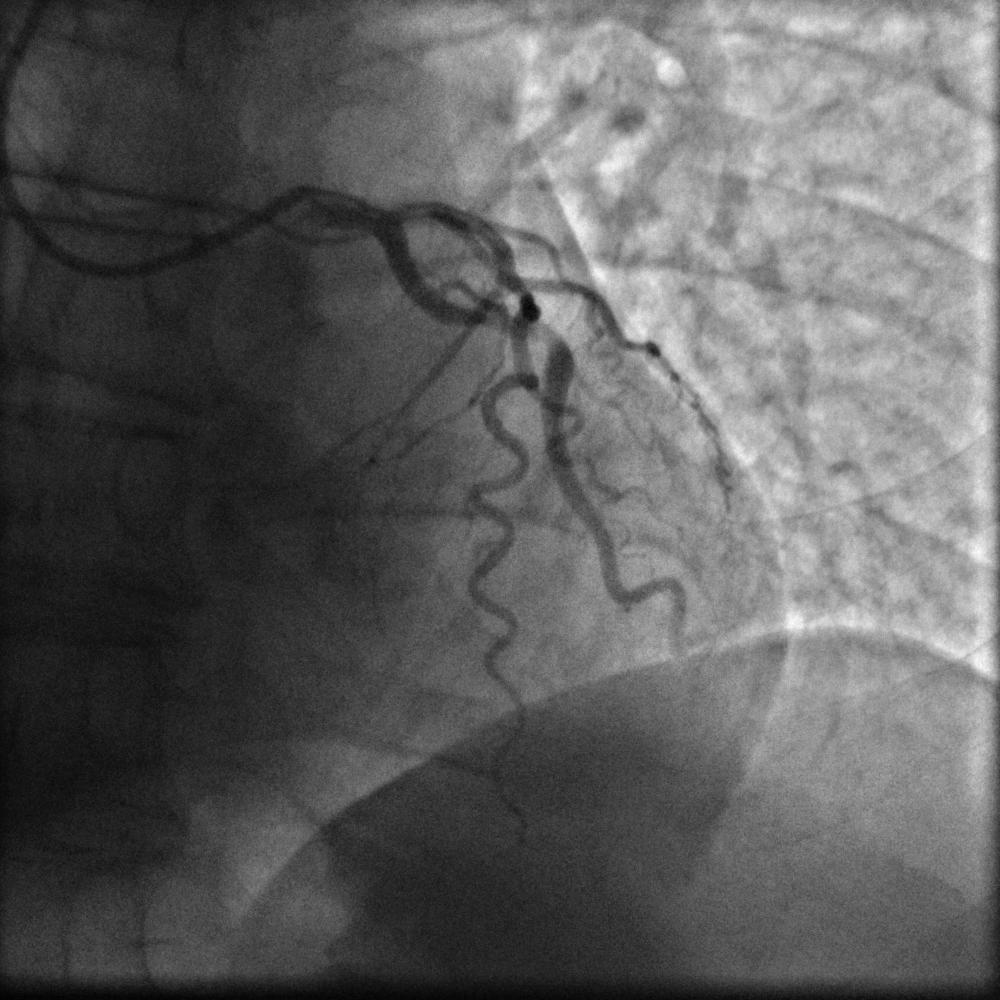Stenosis: (511, 309, 569, 356)
